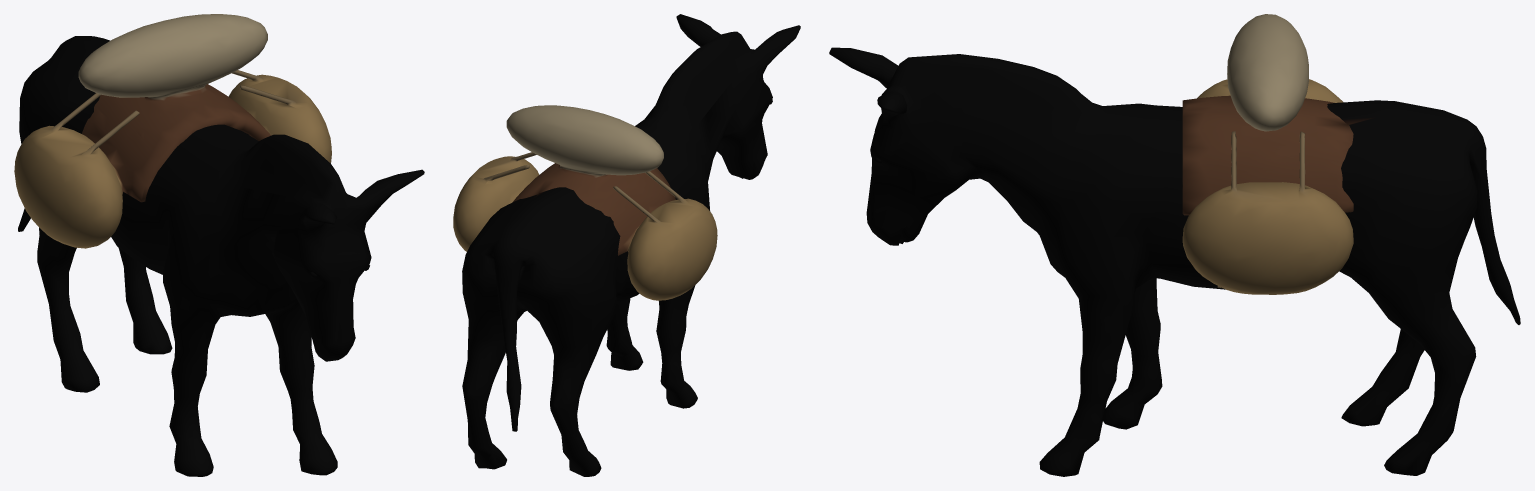
The model's file is donkey_pack.glb.
The picture shows the model from 3 angles, left to right: view 1: azimuth 30°, elevation 25°; view 2: azimuth 150°, elevation 25°; view 3: azimuth 270°, elevation 25°; orthographic projection. The views are drawn at different scales.
Visible parts, largest first — view 1: lod0; view 2: lod0; view 3: lod0.
Boxes of the visible parts, box(x1,y1,x2,y2) form: lod0: box(14, 14, 424, 476); lod0: box(453, 14, 800, 476); lod0: box(829, 14, 1520, 476).
Size of what is drawn, in the model's own units: 0.9998 by 1.32 by 2.02.
